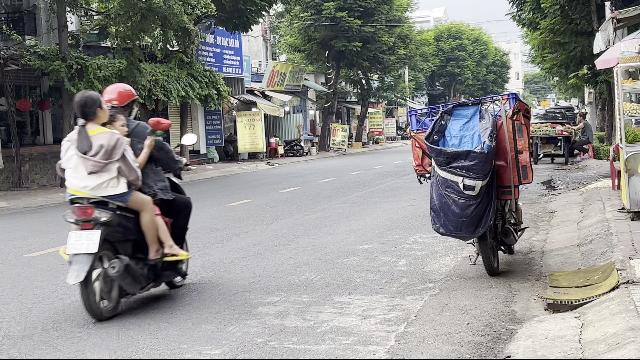helmet: (100, 82, 140, 120)
licenseplate: (68, 231, 100, 254)
motorcyclist: (52, 82, 196, 320)
nohelmet: (70, 88, 104, 126)
